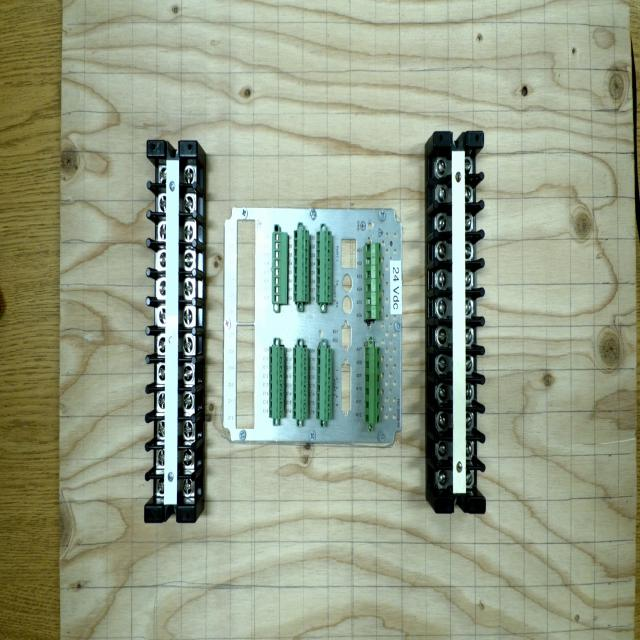Flathead_Block: (434, 132, 485, 514)
Phillips_Block: (145, 141, 197, 523)
Terminal_1: (365, 243, 382, 319), (365, 346, 381, 424)
Terminal_2: (316, 348, 332, 421), (316, 230, 332, 303), (293, 229, 309, 302), (269, 346, 284, 419), (293, 348, 308, 420)
